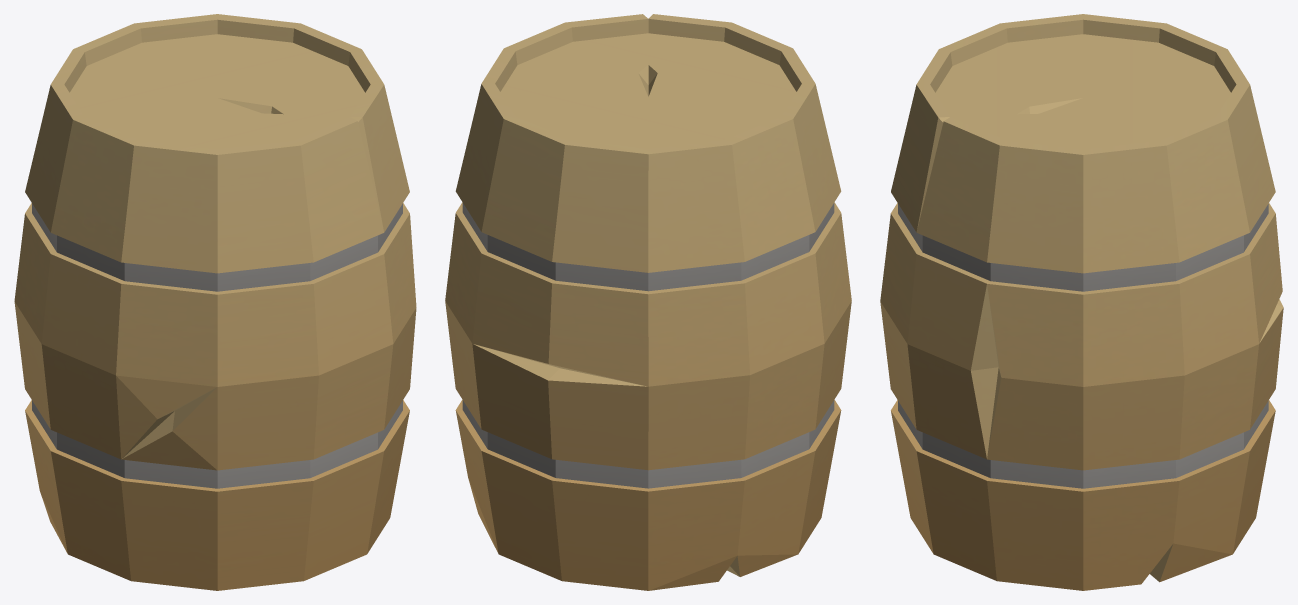
Rendered from barril1.fbx.
3 renders of one model, left to right at view 1: azimuth 30°, elevation 25°; view 2: azimuth 150°, elevation 25°; view 3: azimuth 270°, elevation 25°, orthographic.
Parts seen in each view (by area): view 1: barril1; view 2: barril1; view 3: barril1.
Boxes of the visible parts, x1,y1,x2,y2 form: barril1: (14, 14, 416, 590); barril1: (445, 14, 851, 590); barril1: (880, 14, 1283, 590).
Bounding box in the file's own units: 334 × 393 × 332.
